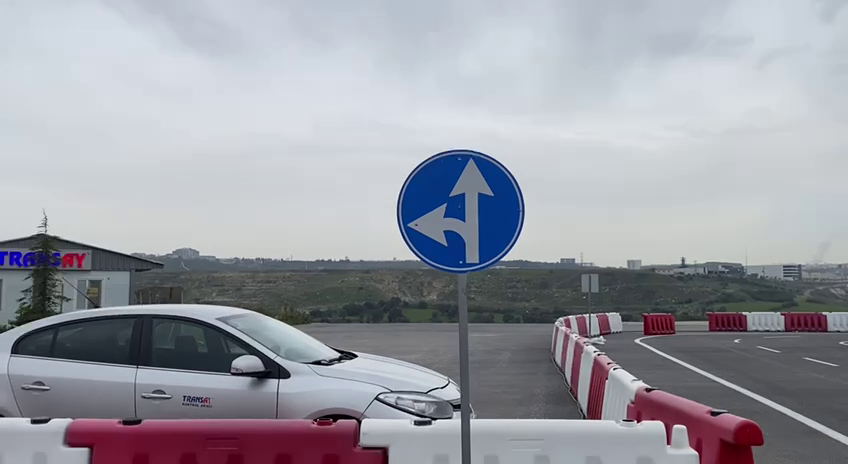forwardAndLeft: (396, 148, 525, 275)
